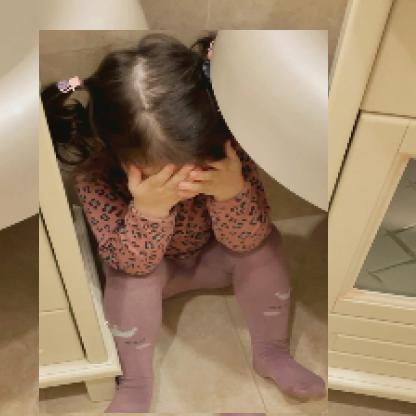child: (40, 31, 330, 415)
